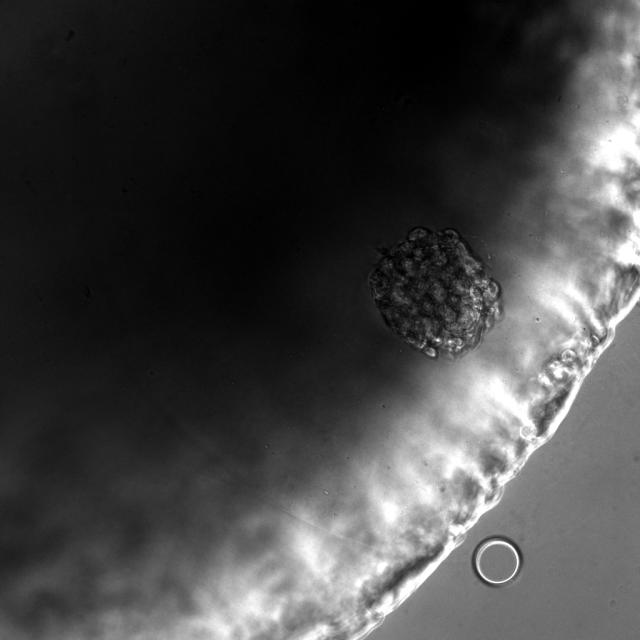organoid: (369, 227, 501, 358)
